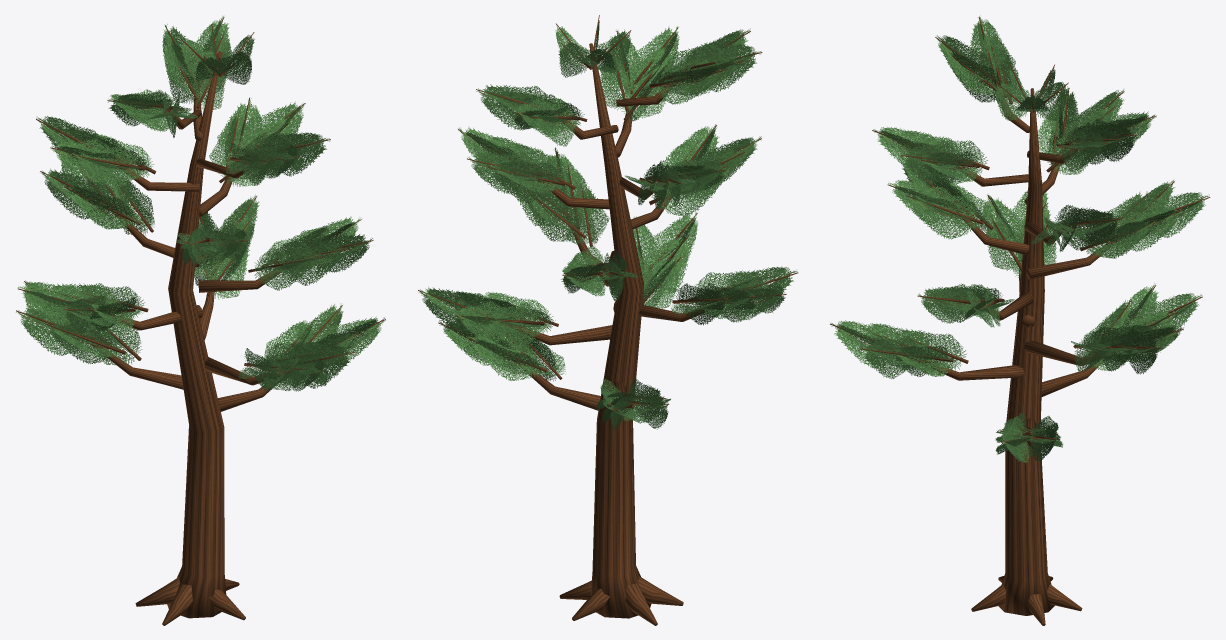
The model's file is NaturalPine.fbx.
3 renders of one model, left to right at view 1: azimuth 30°, elevation 25°; view 2: azimuth 150°, elevation 25°; view 3: azimuth 270°, elevation 25°, orthographic. The views are drawn at different scales.
Parts seen in each view (by area): view 1: SM_NaturalPine_Foliage_LOD0, SM_NaturalPine_Bark_LOD0; view 2: SM_NaturalPine_Foliage_LOD0, SM_NaturalPine_Bark_LOD0; view 3: SM_NaturalPine_Foliage_LOD0, SM_NaturalPine_Bark_LOD0.
Part boxes in pixels (x1=…): SM_NaturalPine_Foliage_LOD0: x1=16, y1=15, x2=384, y2=391; SM_NaturalPine_Bark_LOD0: x1=16, y1=17, x2=385, y2=625; SM_NaturalPine_Foliage_LOD0: x1=419, y1=20, x2=797, y2=431; SM_NaturalPine_Bark_LOD0: x1=418, y1=15, x2=798, y2=625; SM_NaturalPine_Foliage_LOD0: x1=830, y1=15, x2=1209, y2=462; SM_NaturalPine_Bark_LOD0: x1=830, y1=17, x2=1210, y2=625.
Size of what is drawn, in the model's own units: 5.32 by 8.1 by 5.21.
2 materials, 2 textured.
